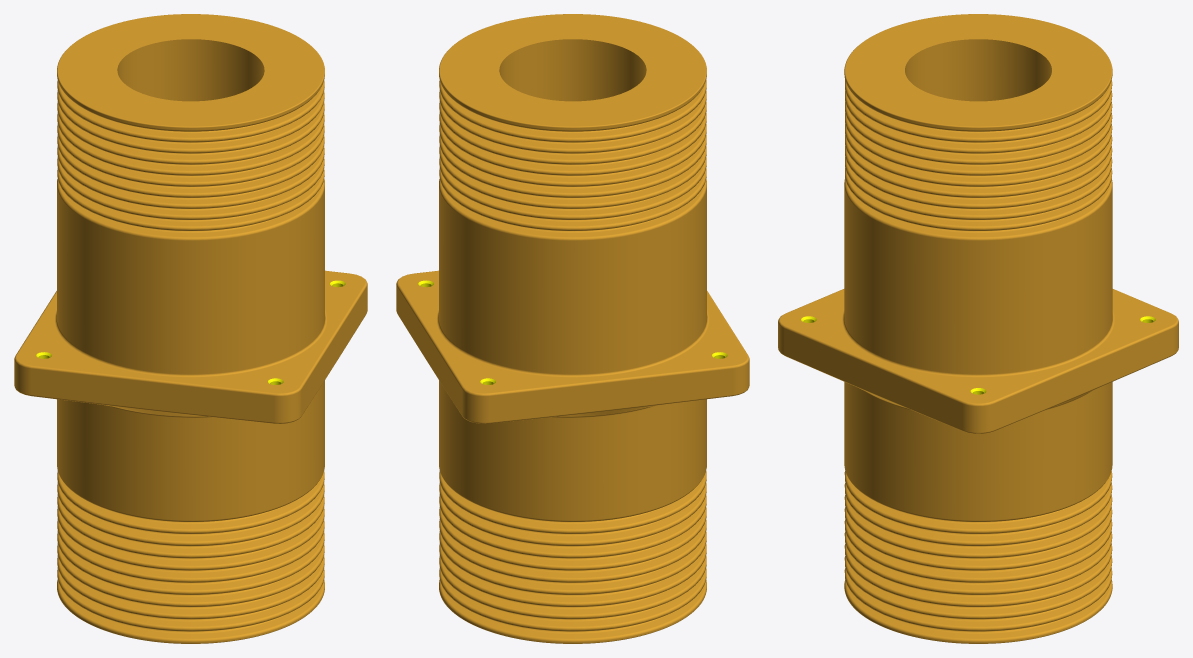
File: 04.17_izolyator-prokhodnoy-ip-35-235x500.glb
3 views of the same model, side by side, from view 1: azimuth 30°, elevation 25°; view 2: azimuth 150°, elevation 25°; view 3: azimuth 270°, elevation 25° (orthographic).
Parts seen in each view (by area): view 1: 04.17_izolyator-prokhodnoy-ip-35-235x500; view 2: 04.17_izolyator-prokhodnoy-ip-35-235x500; view 3: 04.17_izolyator-prokhodnoy-ip-35-235x500.
Part boxes in pixels (bbox=[...]): 04.17_izolyator-prokhodnoy-ip-35-235x500: bbox=[14, 14, 367, 643]; 04.17_izolyator-prokhodnoy-ip-35-235x500: bbox=[396, 14, 749, 643]; 04.17_izolyator-prokhodnoy-ip-35-235x500: bbox=[778, 14, 1178, 643].
Bounding box in the file's own units: 351 × 500 × 351.
